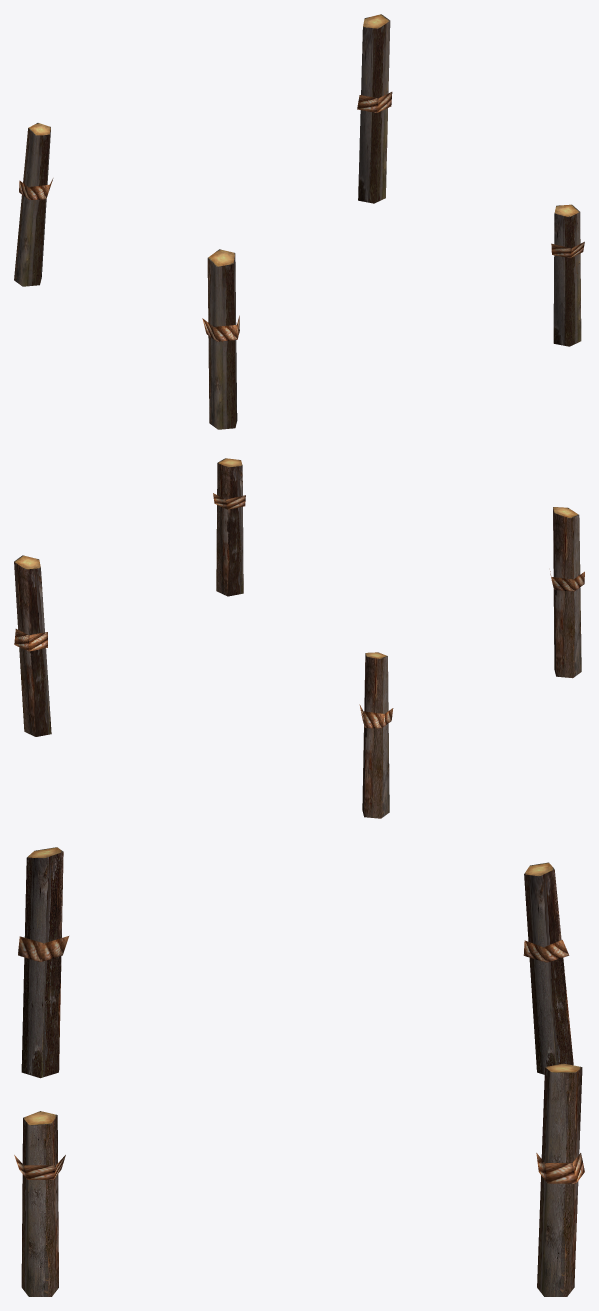
Rendered from building_pitch_rig.glb.
3 views of the same model, one above another, from view 1: azimuth 30°, elevation 25°; view 2: azimuth 150°, elevation 25°; view 3: azimuth 270°, elevation 25° (orthographic). The views are drawn at different scales.
Visible parts, largest first — view 1: building_pitch_rig; view 2: building_pitch_rig; view 3: building_pitch_rig.
Part boxes in pixels (bbox=[...]): building_pitch_rig: bbox=[14, 14, 584, 429]; building_pitch_rig: bbox=[14, 458, 584, 818]; building_pitch_rig: bbox=[14, 847, 584, 1296].
Bounding box in the file's own units: 4.22 × 1.87 × 4.23.
Materials: 3 (3 with a texture image).
